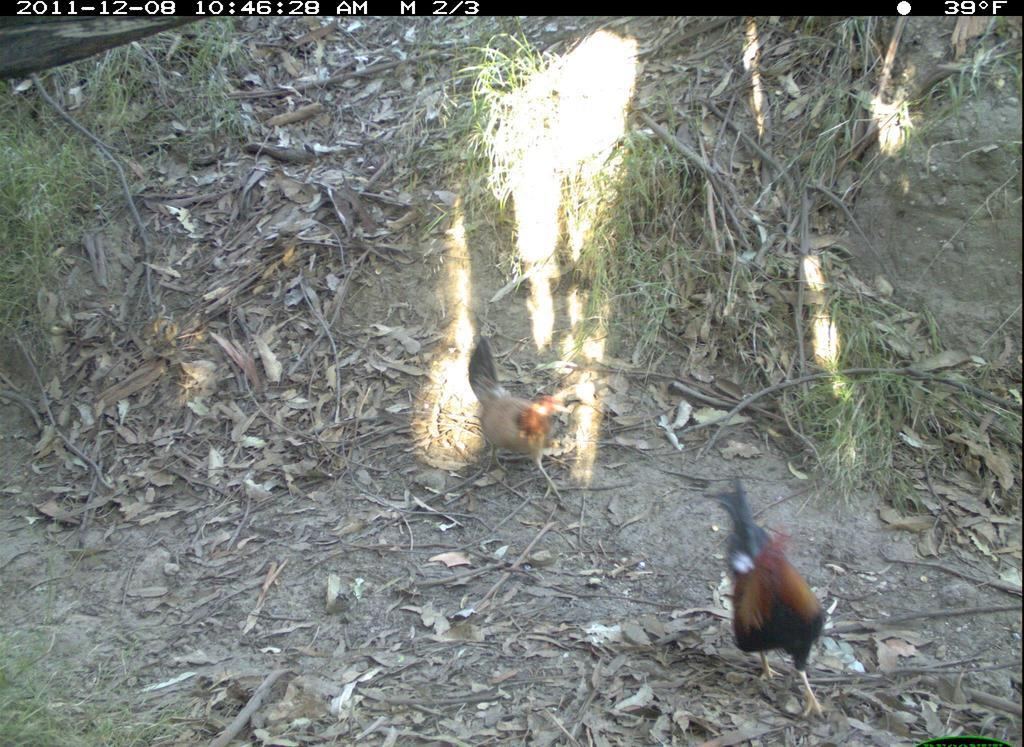bird: (702, 473, 837, 724), (465, 330, 574, 511)
